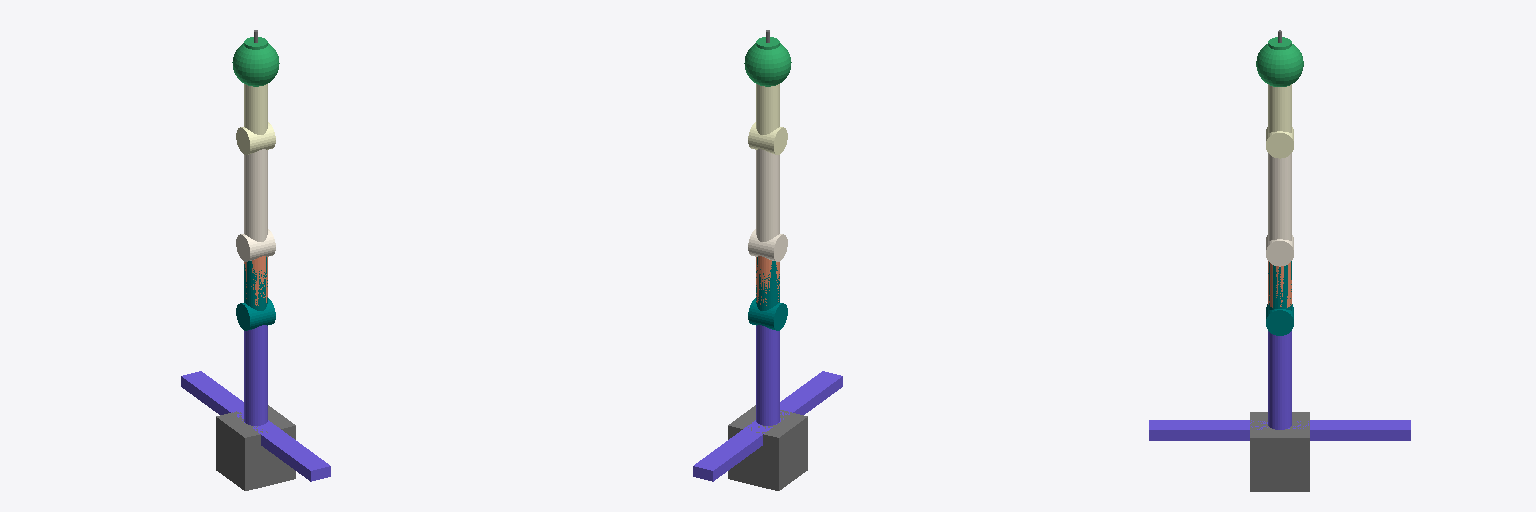
robot.urdf — test_robot:
<?xml version="1.0" ?>
<robot name="test_robot">
    <link name="base_link">
        <inertial>
            <mass value="1.0"/>
            <inertia ixx="0.010416666666666666" iyy="0.010416666666666666" izz="0.010416666666666666" ixy="0.0" ixz="0.0" iyz="0.0"/>
            <origin xyz="0 0 0" rpy="0 0 0"/>
        </inertial>
        <visual>
            <origin xyz="0 0 0" rpy="0 0 0"/>
            <geometry>
                <box size="0.25 0.25 0.25"/>
            </geometry>
            <material name="gray">
                <color rgba="0.5 0.5 0.5 1"/>
            </material>
        </visual>
    </link>
    <joint name="joint0_fixed" type="fixed">
        <parent link="base_link"/>
        <child link="link0_fixed"/>
        <origin xyz="0 0 0.125" rpy="0 0 0"/>
    </joint>
    <link name="link0_fixed">
        <inertial>
            <mass value="1.0"/>
            <inertia ixx="0.10166666666666668" iyy="0.10166666666666668" izz="0.10166666666666668" ixy="0.0" ixz="0.0" iyz="0.0"/>
            <origin xyz="0 0 -0.025" rpy="0 0 0"/>
        </inertial>
        <visual>
            <origin xyz="0 0 -0.025" rpy="0 0 0"/>
            <geometry>
                <box size="0.1 1.1 0.05"/>
            </geometry>
            <material name="mediumslateblue">
                <color rgba="0.4823529411764706 0.40784313725490196 0.9333333333333333 1.0"/>
            </material>
        </visual>
        <collision>
            <origin xyz="0 0 -0.025" rpy="0 0 0"/>
            <geometry>
                <box size="0.1 1.1 0.05"/>
            </geometry>
        </collision>
    </link>
    <joint name="joint0" type="prismatic">
        <parent link="link0_fixed"/>
        <child link="link0"/>
        <origin xyz="0 0 0" rpy="0 0 0"/>
        <axis xyz="0 1 0"/>
        <limit lower="-0.5" upper="0.5" effort="10" velocity="1"/>
    </joint>
    <link name="link0">
        <inertial>
            <mass value="1.0"/>
            <inertia ixx="0.021458333333333333" iyy="0.021458333333333333" izz="0.0012500000000000002" ixy="0.0" ixz="0.0" iyz="0.0"/>
            <origin xyz="0 0 0.25" rpy="0 0 0"/>
        </inertial>
        <visual>
            <origin xyz="0 0 0.25" rpy="0 0 0"/>
            <geometry>
                <cylinder length="0.5" radius="0.05"/>
            </geometry>
            <material name="mediumslateblue">
                <color rgba="0.4823529411764706 0.40784313725490196 0.9333333333333333 1.0"/>
            </material>
        </visual>
        <collision>
            <origin xyz="0 0 0.25" rpy="0 0 0"/>
            <geometry>
                <cylinder length="0.5" radius="0.05"/>
            </geometry>
        </collision>
    </link>
    <joint name="joint_viz1" type="fixed">
        <parent link="link0"/>
        <child link="joint_viz_link1"/>
        <origin xyz="0 0 0.5" rpy="0 0 0"/>
    </joint>
    <link name="joint_viz_link1">
        <inertial>
            <mass value="0.0"/>
            <inertia ixx="0.0" iyy="0.0" izz="0.0" ixy="0.0" ixz="0.0" iyz="0.0"/>
            <origin xyz="0 0 0" rpy="0 1.57 0"/>
        </inertial>
        <visual>
            <origin xyz="0 0 0" rpy="0 1.57 0"/>
            <geometry>
                <cylinder length="0.125" radius="0.06"/>
            </geometry>
            <material name="darkcyan">
                <color rgba="0.0 0.5450980392156862 0.5450980392156862 1.0"/>
            </material>
        </visual>
    </link>
    <joint name="joint1" type="revolute">
        <parent link="link0"/>
        <child link="link1"/>
        <origin xyz="0 0 0.5" rpy="0 0 0"/>
        <axis xyz="1 0 0"/>
        <limit lower="-3.14" upper="3.14" effort="10" velocity="1"/>
    </joint>
    <link name="link1">
        <inertial>
            <mass value="1.0"/>
            <inertia ixx="0.008125" iyy="0.008125" izz="0.0012500000000000002" ixy="0.0" ixz="0.0" iyz="0.0"/>
            <origin xyz="0 0 0.15" rpy="0 0 0"/>
        </inertial>
        <visual>
            <origin xyz="0 0 0.15" rpy="0 0 0"/>
            <geometry>
                <cylinder length="0.3" radius="0.05"/>
            </geometry>
            <material name="darkcyan">
                <color rgba="0.0 0.5450980392156862 0.5450980392156862 1.0"/>
            </material>
        </visual>
        <collision>
            <origin xyz="0 0 0.15" rpy="0 0 0"/>
            <geometry>
                <cylinder length="0.3" radius="0.05"/>
            </geometry>
        </collision>
    </link>
    <joint name="joint2" type="prismatic">
        <parent link="link1"/>
        <child link="link2"/>
        <origin xyz="0 0 0.061" rpy="0 0 0"/>
        <axis xyz="0 0 1"/>
        <limit lower="0" upper="0.25" effort="10" velocity="1"/>
    </joint>
    <link name="link2">
        <inertial>
            <mass value="1.0"/>
            <inertia ixx="0.00630175" iyy="0.00630175" izz="0.0012500000000000002" ixy="0.0" ixz="0.0" iyz="0.0"/>
            <origin xyz="0 0 0.1305" rpy="0 0 0"/>
        </inertial>
        <visual>
            <origin xyz="0 0 0.1305" rpy="0 0 0"/>
            <geometry>
                <cylinder length="0.261" radius="0.05"/>
            </geometry>
            <material name="lightsalmon">
                <color rgba="1.0 0.6274509803921569 0.47843137254901963 1.0"/>
            </material>
        </visual>
        <collision>
            <origin xyz="0 0 0.1305" rpy="0 0 0"/>
            <geometry>
                <cylinder length="0.261" radius="0.05"/>
            </geometry>
        </collision>
    </link>
    <joint name="joint_viz3" type="fixed">
        <parent link="link2"/>
        <child link="joint_viz_link3"/>
        <origin xyz="0 0 0.261" rpy="0 0 0"/>
    </joint>
    <link name="joint_viz_link3">
        <inertial>
            <mass value="0.0"/>
            <inertia ixx="0.0" iyy="0.0" izz="0.0" ixy="0.0" ixz="0.0" iyz="0.0"/>
            <origin xyz="0 0 0" rpy="0 1.57 0"/>
        </inertial>
        <visual>
            <origin xyz="0 0 0" rpy="0 1.57 0"/>
            <geometry>
                <cylinder length="0.125" radius="0.06"/>
            </geometry>
            <material name="oldlace">
                <color rgba="0.9921568627450981 0.9607843137254902 0.9019607843137255 1.0"/>
            </material>
        </visual>
    </link>
    <joint name="joint3" type="revolute">
        <parent link="link2"/>
        <child link="link3"/>
        <origin xyz="0 0 0.261" rpy="0 0 0"/>
        <axis xyz="1 0 0"/>
        <limit lower="-3.14" upper="3.14" effort="10" velocity="1"/>
    </joint>
    <link name="link3">
        <inertial>
            <mass value="1.0"/>
            <inertia ixx="0.021458333333333333" iyy="0.021458333333333333" izz="0.0012500000000000002" ixy="0.0" ixz="0.0" iyz="0.0"/>
            <origin xyz="0 0 0.25" rpy="0 0 0"/>
        </inertial>
        <visual>
            <origin xyz="0 0 0.25" rpy="0 0 0"/>
            <geometry>
                <cylinder length="0.5" radius="0.05"/>
            </geometry>
            <material name="oldlace">
                <color rgba="0.9921568627450981 0.9607843137254902 0.9019607843137255 1.0"/>
            </material>
        </visual>
        <collision>
            <origin xyz="0 0 0.25" rpy="0 0 0"/>
            <geometry>
                <cylinder length="0.5" radius="0.05"/>
            </geometry>
        </collision>
    </link>
    <joint name="joint_viz4" type="fixed">
        <parent link="link3"/>
        <child link="joint_viz_link4"/>
        <origin xyz="0 0 0.5" rpy="0 0 0"/>
    </joint>
    <link name="joint_viz_link4">
        <inertial>
            <mass value="0.0"/>
            <inertia ixx="0.0" iyy="0.0" izz="0.0" ixy="0.0" ixz="0.0" iyz="0.0"/>
            <origin xyz="0 0 0" rpy="0 1.57 0"/>
        </inertial>
        <visual>
            <origin xyz="0 0 0" rpy="0 1.57 0"/>
            <geometry>
                <cylinder length="0.125" radius="0.06"/>
            </geometry>
            <material name="lightgoldenrodyellow">
                <color rgba="0.9803921568627451 0.9803921568627451 0.8235294117647058 1.0"/>
            </material>
        </visual>
    </link>
    <joint name="joint4" type="revolute">
        <parent link="link3"/>
        <child link="link4"/>
        <origin xyz="0 0 0.5" rpy="0 0 0"/>
        <axis xyz="1 0 0"/>
        <limit lower="-3.14" upper="3.14" effort="10" velocity="1"/>
    </joint>
    <link name="link4">
        <inertial>
            <mass value="1.0"/>
            <inertia ixx="0.01083333333333333" iyy="0.01083333333333333" izz="0.0012500000000000002" ixy="0.0" ixz="0.0" iyz="0.0"/>
            <origin xyz="0 0 0.175" rpy="0 0 0"/>
        </inertial>
        <visual>
            <origin xyz="0 0 0.175" rpy="0 0 0"/>
            <geometry>
                <cylinder length="0.35" radius="0.05"/>
            </geometry>
            <material name="lightgoldenrodyellow">
                <color rgba="0.9803921568627451 0.9803921568627451 0.8235294117647058 1.0"/>
            </material>
        </visual>
        <collision>
            <origin xyz="0 0 0.175" rpy="0 0 0"/>
            <geometry>
                <cylinder length="0.35" radius="0.05"/>
            </geometry>
        </collision>
    </link>
    <joint name="sph_joint_x_1" type="revolute">
        <parent link="link4"/>
        <child link="sph_link_x_1"/>
        <origin xyz="0 0 0.35" rpy="0 0 0"/>
        <axis xyz="1 0 0"/>
        <limit lower="-3.14" upper="3.14" effort="10" velocity="1"/>
    </joint>
    <link name="sph_link_x_1">
        <inertial>
            <mass value="0.001"/>
            <inertia ixx="4.000000000000001e-06" iyy="4.000000000000001e-06" izz="4.000000000000001e-06" ixy="0.0" ixz="0.0" iyz="0.0"/>
            <origin xyz="0 0 0" rpy="0 0 0"/>
        </inertial>
        <visual>
            <origin xyz="0 0 0" rpy="0 0 0"/>
            <geometry>
                <sphere radius="0.1"/>
            </geometry>
            <material name="mediumseagreen">
                <color rgba="0.23529411764705882 0.7019607843137254 0.44313725490196076 1.0"/>
            </material>
        </visual>
    </link>
    <joint name="sph_joint_y_1" type="revolute">
        <parent link="sph_link_x_1"/>
        <child link="sph_link_y_1"/>
        <origin xyz="0 0 0" rpy="0 0 0"/>
        <axis xyz="0 1 0"/>
        <limit lower="-3.14" upper="3.14" effort="10" velocity="1"/>
    </joint>
    <link name="sph_link_y_1">
        <inertial>
            <mass value="0.001"/>
            <inertia ixx="4.000000000000001e-06" iyy="4.000000000000001e-06" izz="4.000000000000001e-06" ixy="0.0" ixz="0.0" iyz="0.0"/>
            <origin xyz="0 0 0" rpy="0 0 0"/>
        </inertial>
        <visual>
            <origin xyz="0 0 0" rpy="0 0 0"/>
            <geometry>
                <sphere radius="0.1"/>
            </geometry>
            <material name="mediumseagreen">
                <color rgba="0.23529411764705882 0.7019607843137254 0.44313725490196076 1.0"/>
            </material>
        </visual>
    </link>
    <joint name="sph_joint_z_1" type="revolute">
        <parent link="sph_link_y_1"/>
        <child link="sph_link_z_1"/>
        <origin xyz="0 0 0" rpy="0 0 0"/>
        <axis xyz="0 0 1"/>
        <limit lower="-3.14" upper="3.14" effort="10" velocity="1"/>
    </joint>
    <link name="sph_link_z_1">
        <inertial>
            <mass value="0.001"/>
            <inertia ixx="4.000000000000001e-06" iyy="4.000000000000001e-06" izz="4.000000000000001e-06" ixy="0.0" ixz="0.0" iyz="0.0"/>
            <origin xyz="0 0 0" rpy="0 0 0"/>
        </inertial>
        <visual>
            <origin xyz="0 0 0" rpy="0 0 0"/>
            <geometry>
                <sphere radius="0.1"/>
            </geometry>
            <material name="mediumseagreen">
                <color rgba="0.23529411764705882 0.7019607843137254 0.44313725490196076 1.0"/>
            </material>
        </visual>
    </link>
    <joint name="joint5" type="fixed">
        <parent link="sph_link_z_1"/>
        <child link="link5"/>
        <origin xyz="0 0 0" rpy="0 0 0"/>
    </joint>
    <link name="link5">
        <inertial>
            <mass value="1.0"/>
            <inertia ixx="0.0014583333333333334" iyy="0.0014583333333333334" izz="0.0012500000000000002" ixy="0.0" ixz="0.0" iyz="0.0"/>
            <origin xyz="0 0 0.05" rpy="0 0 0"/>
        </inertial>
        <visual>
            <origin xyz="0 0 0.05" rpy="0 0 0"/>
            <geometry>
                <cylinder length="0.1" radius="0.05"/>
            </geometry>
            <material name="mediumseagreen">
                <color rgba="0.23529411764705882 0.7019607843137254 0.44313725490196076 1.0"/>
            </material>
        </visual>
        <collision>
            <origin xyz="0 0 0.05" rpy="0 0 0"/>
            <geometry>
                <cylinder length="0.1" radius="0.05"/>
            </geometry>
        </collision>
    </link>
    <joint name="probe_joint" type="fixed">
        <parent link="link5"/>
        <child link="probe_link"/>
        <origin xyz="0 0 0.1" rpy="0 0 0"/>
    </joint>
    <link name="probe_link">
        <inertial>
            <mass value="0.0"/>
            <inertia ixx="0.0" iyy="0.0" izz="0.0" ixy="0.0" ixz="0.0" iyz="0.0"/>
            <origin xyz="0 0 0" rpy="0 0 0"/>
        </inertial>
        <visual>
            <origin xyz="0 0 0" rpy="0 0 0"/>
            <geometry>
                <cylinder length="0.1" radius="0.01"/>
            </geometry>
            <material name="gray">
                <color rgba="0.5 0.5 0.5 1"/>
            </material>
        </visual>
    </link>
    <joint name="end_effector_joint" type="fixed">
        <parent link="probe_link"/>
        <child link="end_effector"/>
        <origin xyz="0 0 0.1" rpy="0 0 0"/>
    </joint>
    <link name="end_effector">
        <inertial>
            <mass value="0.0"/>
            <inertia ixx="0.0" iyy="0.0" izz="0.0" ixy="0.0" ixz="0.0" iyz="0.0"/>
            <origin xyz="0 0 0" rpy="0 0 0"/>
        </inertial>
        <visual>
            <origin xyz="0 0 0" rpy="0 0 0"/>
            <geometry>
                <cylinder length="0" radius="0"/>
            </geometry>
            <material name="gray">
                <color rgba="0.5 0.5 0.5 1"/>
            </material>
        </visual>
    </link>
</robot>

--- Render facts (derived) ---
3 views of the same robot in one strip: view 1: azimuth 30°, elevation 25°; view 2: azimuth 150°, elevation 25°; view 3: azimuth 270°, elevation 25° (orthographic).
Robot: test_robot — 16 links, 15 joints (6 revolute, 2 prismatic, 7 fixed); root link base_link; default pose: every joint at zero.
Visible links, largest first — view 1: base_link, link0_fixed, link0, link3, sph_link_x_1, link4, joint_viz_link3, joint_viz_link1, joint_viz_link4, link1; view 2: base_link, link0_fixed, link0, link3, sph_link_x_1, link4, joint_viz_link3, joint_viz_link1, joint_viz_link4, link1; view 3: base_link, link0_fixed, link0, link3, sph_link_x_1, link4, joint_viz_link1, joint_viz_link3, joint_viz_link4, link1.
Boxes of the visible links, <box> form: base_link: <box>216,405,295,490</box>; link0_fixed: <box>181,371,330,481</box>; link0: <box>244,325,267,425</box>; link3: <box>244,149,267,241</box>; sph_link_x_1: <box>232,43,279,86</box>; link4: <box>244,84,267,134</box>; joint_viz_link3: <box>236,229,275,261</box>; joint_viz_link1: <box>236,298,275,330</box>; joint_viz_link4: <box>236,122,275,154</box>; link1: <box>244,257,267,310</box>; base_link: <box>728,405,807,490</box>; link0_fixed: <box>693,371,842,481</box>; link0: <box>756,325,779,425</box>; link3: <box>756,149,779,241</box>; sph_link_x_1: <box>744,43,791,86</box>; link4: <box>756,84,779,134</box>; joint_viz_link3: <box>748,229,787,261</box>; joint_viz_link1: <box>748,298,787,330</box>; joint_viz_link4: <box>748,122,787,154</box>; link1: <box>756,257,779,310</box>; base_link: <box>1250,412,1309,491</box>; link0_fixed: <box>1149,420,1410,440</box>; link0: <box>1268,331,1291,429</box>; link3: <box>1268,153,1291,240</box>; sph_link_x_1: <box>1256,44,1303,86</box>; link4: <box>1268,84,1291,132</box>; joint_viz_link1: <box>1266,304,1293,335</box>; joint_viz_link3: <box>1266,235,1293,266</box>; joint_viz_link4: <box>1266,127,1293,158</box>; link1: <box>1268,261,1291,310</box>.
Bounding box of the posed robot: 0.25 × 1.1 × 2.12 m (x, y, z).
Geometry: primitives only (box / cylinder / sphere), no mesh files.